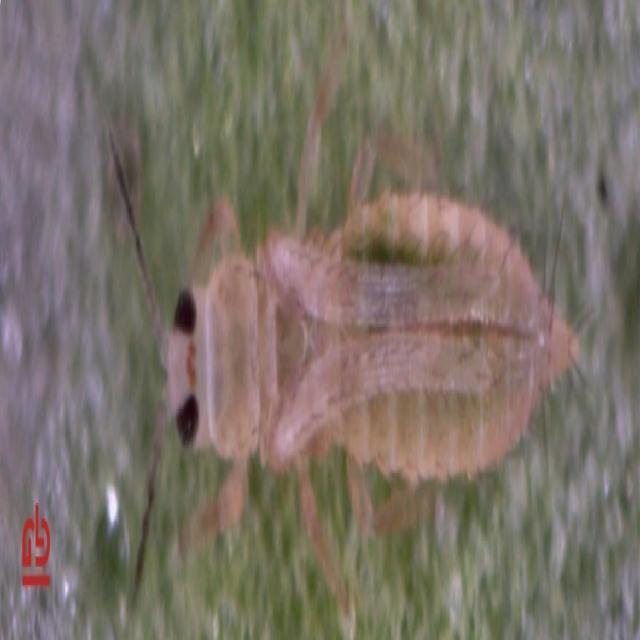Thrip-Larva-: (82, 106, 600, 577)
